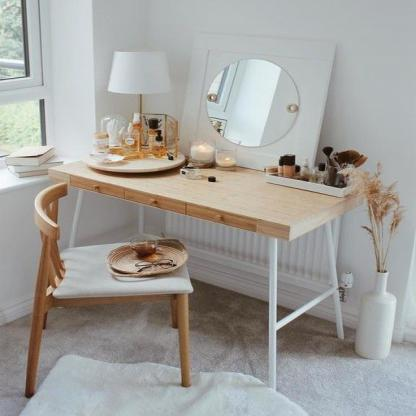table: (46, 140, 368, 392)
